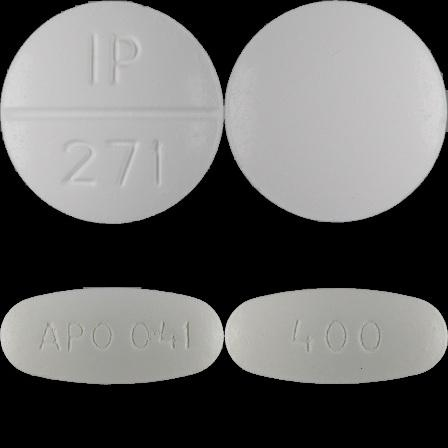0179-0206: (0, 0, 224, 224)
